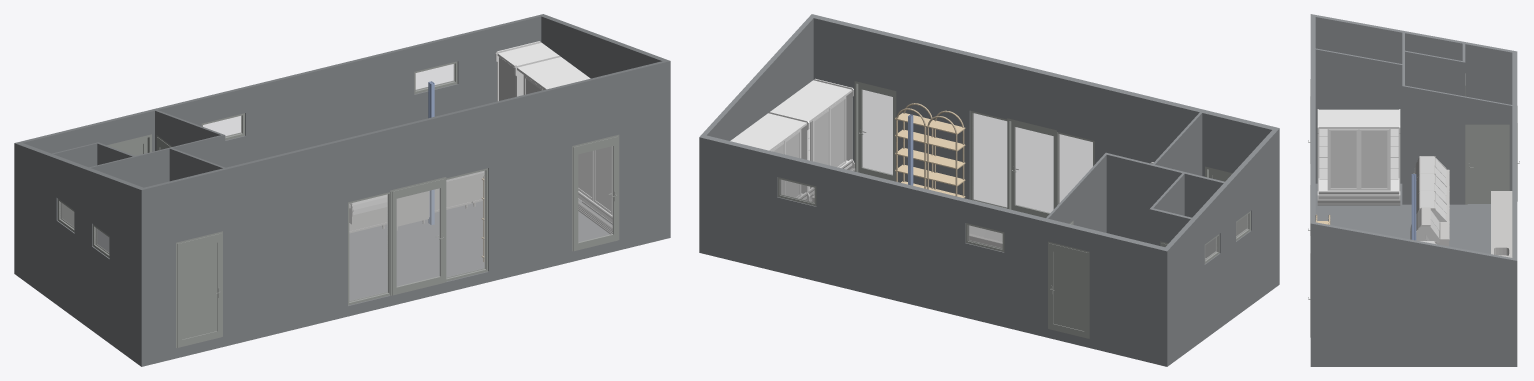
Rendered from Valkininkai_Mėsos krautuvėlė_R03.fbx.
The picture shows the model from 3 angles, left to right: view 1: azimuth 30°, elevation 25°; view 2: azimuth 150°, elevation 25°; view 3: azimuth 270°, elevation 25°; orthographic projection. The views are drawn at different scales.
Parts seen in each view (by area): view 1: IfcWallStandardCase/Basic Wall:Sandwich - isorines sienos 1. (×2), IfcWallStandardCase/Basic Wall:Sandwich - isorines sienos 1, IfcSlab/Floor:Sumustinis pilnas 145mm:2354331, IfcDoor/Lauko durys:1200x2250:2318509, IfcDoor/Lauko durys:1000x2250:2319070, IfcDoor/Lauko durys:1000x2250 nepermatomos (WC):2319108, IfcWallStandardCase/Basic Wall:Sandwich - isorines sienos 12, IfcWindow/Aluprof_MB-86-SI_E_Alu_Window-1sash-FIX_ENG_R-000, IfcWindow/Aluprof_MB-86-SI_E_Alu_Window-1sash-FIX_ENG_R-0004, IfcWallStandardCase/Basic Wall:Sandwich - vidines sienos 60. (×2), IfcBuildingElementProxy/Freezer_-_Upright_Two_Door:62" Leng, IfcBuildingElementProxy/Freezer_-_Upright_Two_Door:62" Leng. (+8 smaller); view 2: IfcWallStandardCase/Basic Wall:Sandwich - isorines sienos 1. (×2), IfcWallStandardCase/Basic Wall:Sandwich - isorines sienos 1, IfcWallStandardCase/Basic Wall:Sandwich - vidines sienos 60. (×3), IfcWallStandardCase/Basic Wall:Sandwich - isorines sienos 12, IfcDoor/Lauko durys:1200x2250:2318509, IfcBuildingElementProxy/Freezer_-_Upright_Two_Door:62" Leng, IfcDoor/Lauko durys:1000x2250:2319070, IfcDoor/Lauko durys:1000x2100 (techninių patalpų):2321252, IfcWindow/Aluprof_MB-86-SI_E_Alu_Window-1sash-FIX_ENG_R-000, IfcBuildingElementProxy/Freezer_-_Upright_Two_Door:62" Leng., IfcWallStandardCase/Basic Wall:Sandwich - vidines sienos 60, IfcBuildingElementProxy/M2050 - Shelving, Storage, 75hx36wx1 (+5 smaller); view 3: IfcWallStandardCase/Basic Wall:Sandwich - isorines sienos 12, IfcBuildingElementProxy/Freezer_-_Upright_Two_Door:62" Lengt, IfcWallStandardCase/Basic Wall:Sandwich - vidines sienos 60, IfcWallStandardCase/Basic Wall:Sandwich - isorines sienos 1, IfcWallStandardCase/Basic Wall:Sandwich - vidines sienos 60m, IfcSlab/Floor:Sumustinis pilnas 145mm:2354331, IfcDoor/Vidaus durys:1000x2100:2319457, IfcWallStandardCase/Basic Wall:Sandwich - isorines sienos 1. (×2), IfcWallStandardCase/Basic Wall:Sandwich - vidines sienos 60., IfcBuildingElementProxy/Food_Service_Equipment-Display_Case. (×3), IfcFurnishingElement/Workshop countertop6:Workshop counterto, IfcBuildingElementProxy/Food_Service_Equipment-Display_Case- (+3 smaller).
Boxes of the visible parts, <box> form: IfcWallStandardCase/Basic Wall:Sandwich - isorines sienos 1. (×2): <box>14,14,665,366</box>; IfcWallStandardCase/Basic Wall:Sandwich - isorines sienos 1: <box>17,143,142,364</box>; IfcSlab/Floor:Sumustinis pilnas 145mm:2354331: <box>349,199,612,300</box>; IfcDoor/Lauko durys:1200x2250:2318509: <box>388,177,446,295</box>; IfcDoor/Lauko durys:1000x2250:2319070: <box>572,134,619,251</box>; IfcDoor/Lauko durys:1000x2250 nepermatomos (WC):2319108: <box>176,231,222,347</box>; IfcWallStandardCase/Basic Wall:Sandwich - isorines sienos 12: <box>541,15,670,238</box>; IfcWindow/Aluprof_MB-86-SI_E_Alu_Window-1sash-FIX_ENG_R-000: <box>446,168,488,281</box>; IfcWindow/Aluprof_MB-86-SI_E_Alu_Window-1sash-FIX_ENG_R-0004: <box>348,192,389,305</box>; IfcWallStandardCase/Basic Wall:Sandwich - vidines sienos 60. (×2): <box>52,135,222,251</box>; IfcBuildingElementProxy/Freezer_-_Upright_Two_Door:62" Leng: <box>578,146,612,234</box>; IfcBuildingElementProxy/Freezer_-_Upright_Two_Door:62" Leng.: <box>515,55,590,96</box>; IfcWallStandardCase/Basic Wall:Sandwich - isorines sienos 1. (×2): <box>699,15,1279,366</box>; IfcWallStandardCase/Basic Wall:Sandwich - isorines sienos 1: <box>1165,130,1276,364</box>; IfcWallStandardCase/Basic Wall:Sandwich - vidines sienos 60. (×3): <box>1106,153,1224,257</box>; IfcWallStandardCase/Basic Wall:Sandwich - isorines sienos 12: <box>702,14,815,140</box>; IfcDoor/Lauko durys:1200x2250:2318509: <box>1007,118,1058,217</box>; IfcBuildingElementProxy/Freezer_-_Upright_Two_Door:62" Leng: <box>770,78,855,201</box>; IfcDoor/Lauko durys:1000x2250:2319070: <box>854,81,896,181</box>; IfcDoor/Lauko durys:1000x2100 (techninių patalpų):2321252: <box>1048,241,1089,338</box>; IfcWindow/Aluprof_MB-86-SI_E_Alu_Window-1sash-FIX_ENG_R-000: <box>970,110,1010,208</box>; IfcBuildingElementProxy/Freezer_-_Upright_Two_Door:62" Leng.: <box>730,111,809,200</box>; IfcWallStandardCase/Basic Wall:Sandwich - vidines sienos 60: <box>1046,152,1107,232</box>; IfcBuildingElementProxy/M2050 - Shelving, Storage, 75hx36wx1: <box>926,110,965,197</box>; IfcWallStandardCase/Basic Wall:Sandwich - isorines sienos 12: <box>1310,221,1512,366</box>; IfcBuildingElementProxy/Freezer_-_Upright_Two_Door:62" Lengt: <box>1317,109,1400,205</box>; IfcWallStandardCase/Basic Wall:Sandwich - vidines sienos 60: <box>1402,85,1512,204</box>; IfcWallStandardCase/Basic Wall:Sandwich - isorines sienos 1: <box>1315,15,1512,104</box>; IfcWallStandardCase/Basic Wall:Sandwich - vidines sienos 60m: <box>1315,48,1402,183</box>; IfcSlab/Floor:Sumustinis pilnas 145mm:2354331: <box>1315,183,1490,253</box>; IfcDoor/Vidaus durys:1000x2100:2319457: <box>1465,124,1509,204</box>; IfcWallStandardCase/Basic Wall:Sandwich - isorines sienos 1. (×2): <box>1310,14,1517,366</box>; IfcWallStandardCase/Basic Wall:Sandwich - vidines sienos 60.: <box>1405,50,1465,96</box>; IfcBuildingElementProxy/Food_Service_Equipment-Display_Case. (×3): <box>1413,156,1449,221</box>; IfcFurnishingElement/Workshop countertop6:Workshop counterto: <box>1491,191,1512,240</box>; IfcBuildingElementProxy/Food_Service_Equipment-Display_Case-: <box>1410,207,1449,246</box>.
Bounding box in the file's own units: 1200 × 383 × 512.
